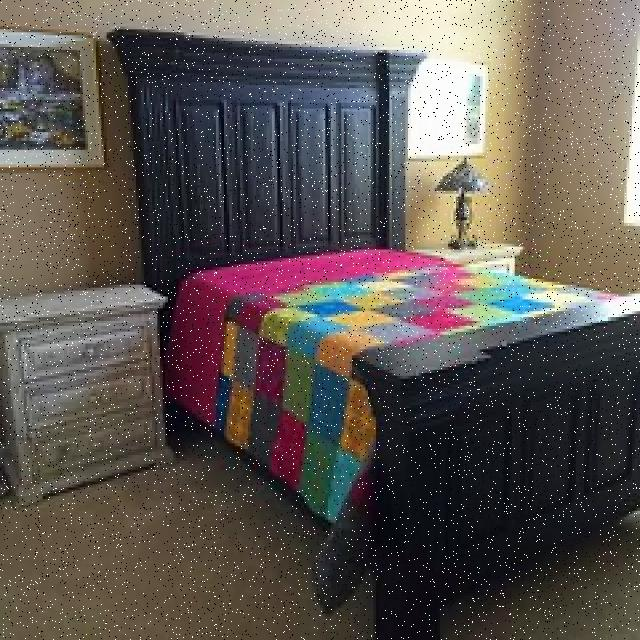bed: (173, 171, 640, 511)
